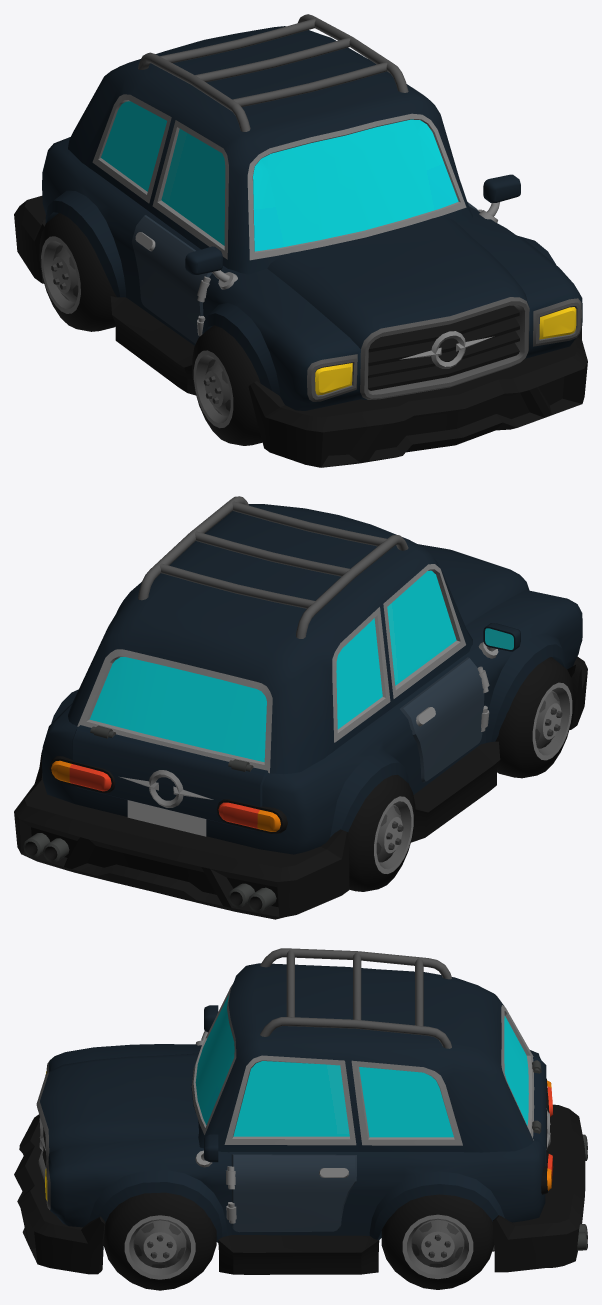
File: VEH11-A.fbx
3 renders of one model, top to bottom at view 1: azimuth 30°, elevation 25°; view 2: azimuth 150°, elevation 25°; view 3: azimuth 270°, elevation 25°, orthographic. The views are drawn at different scales.
Parts seen in each view (by area): view 1: VEH11_A, V11A_Wheel_BR, V11A_Wheel_FR; view 2: VEH11_A, V11A_Wheel_FR, V11A_Wheel_BR; view 3: VEH11_A, V11A_Wheel_FL, V11A_Wheel_BL.
Boxes of the visible parts, x1,y1,x2,y2 form: VEH11_A: (14,14,587,467); V11A_Wheel_BR: (39,213,116,331); V11A_Wheel_FR: (192,325,262,445); VEH11_A: (14,496,587,919); V11A_Wheel_FR: (495,657,573,778); V11A_Wheel_BR: (348,774,415,891); VEH11_A: (14,948,587,1274); V11A_Wheel_FL: (103,1192,216,1290); V11A_Wheel_BL: (381,1194,494,1289).
Bounding box in the file's own units: 280 × 211 × 453.
Materials: 1 (1 with a texture image).
